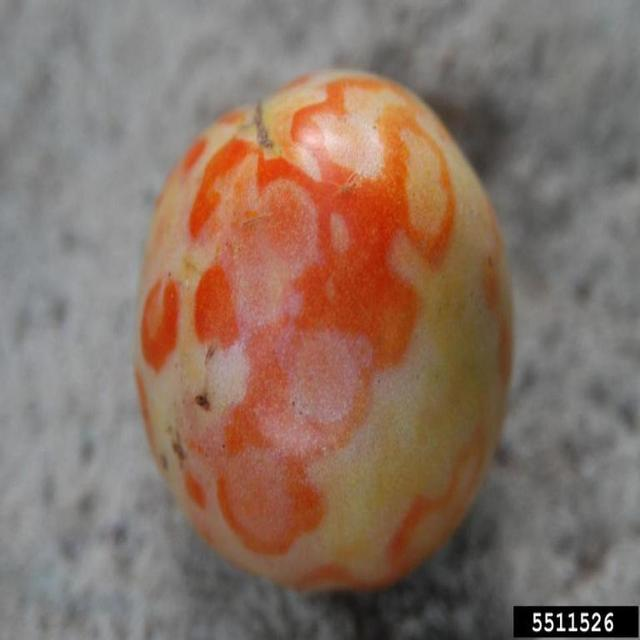Spotted wilt Virus Fruit: (90, 42, 343, 396)
